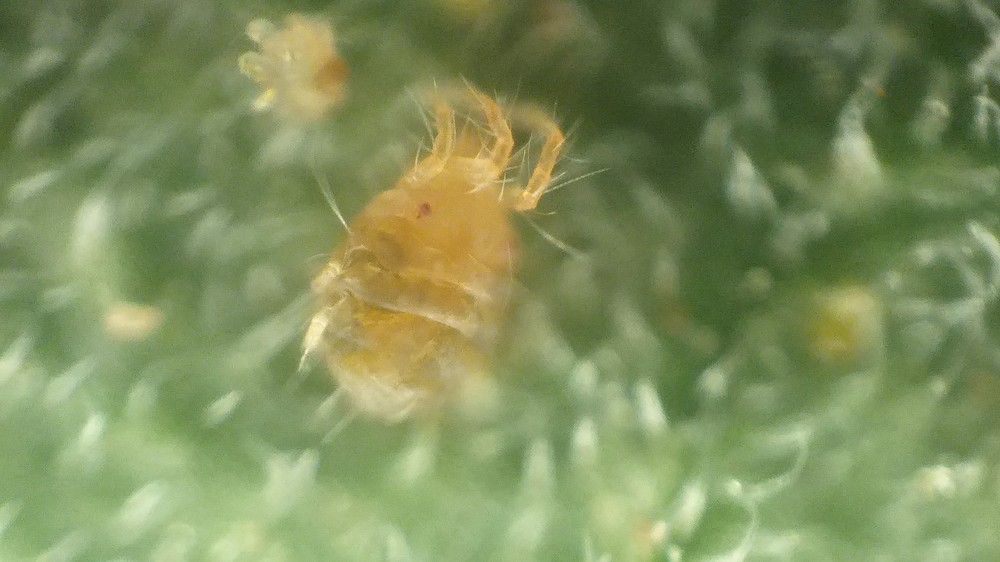Aracnido Rojo: (309, 75, 560, 443), (242, 11, 361, 130)
